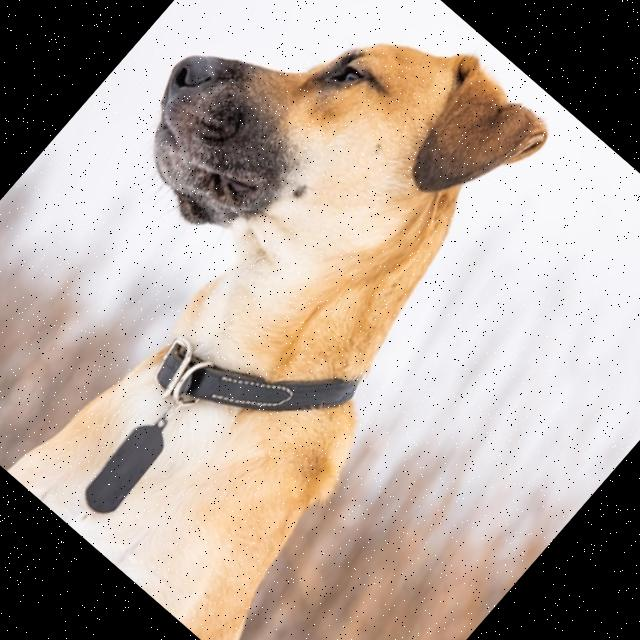Dog: (0, 0, 638, 640)
